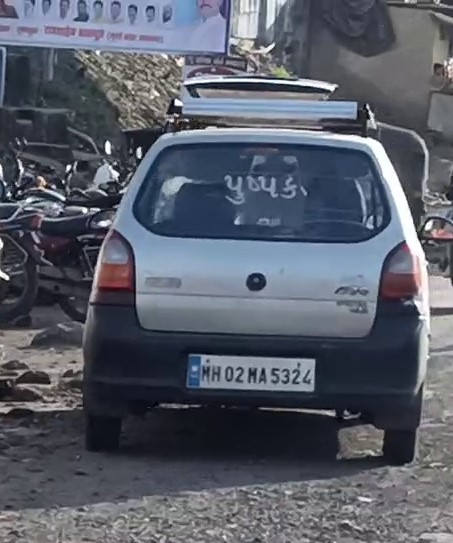MH02MA5324: (183, 352, 316, 392)
